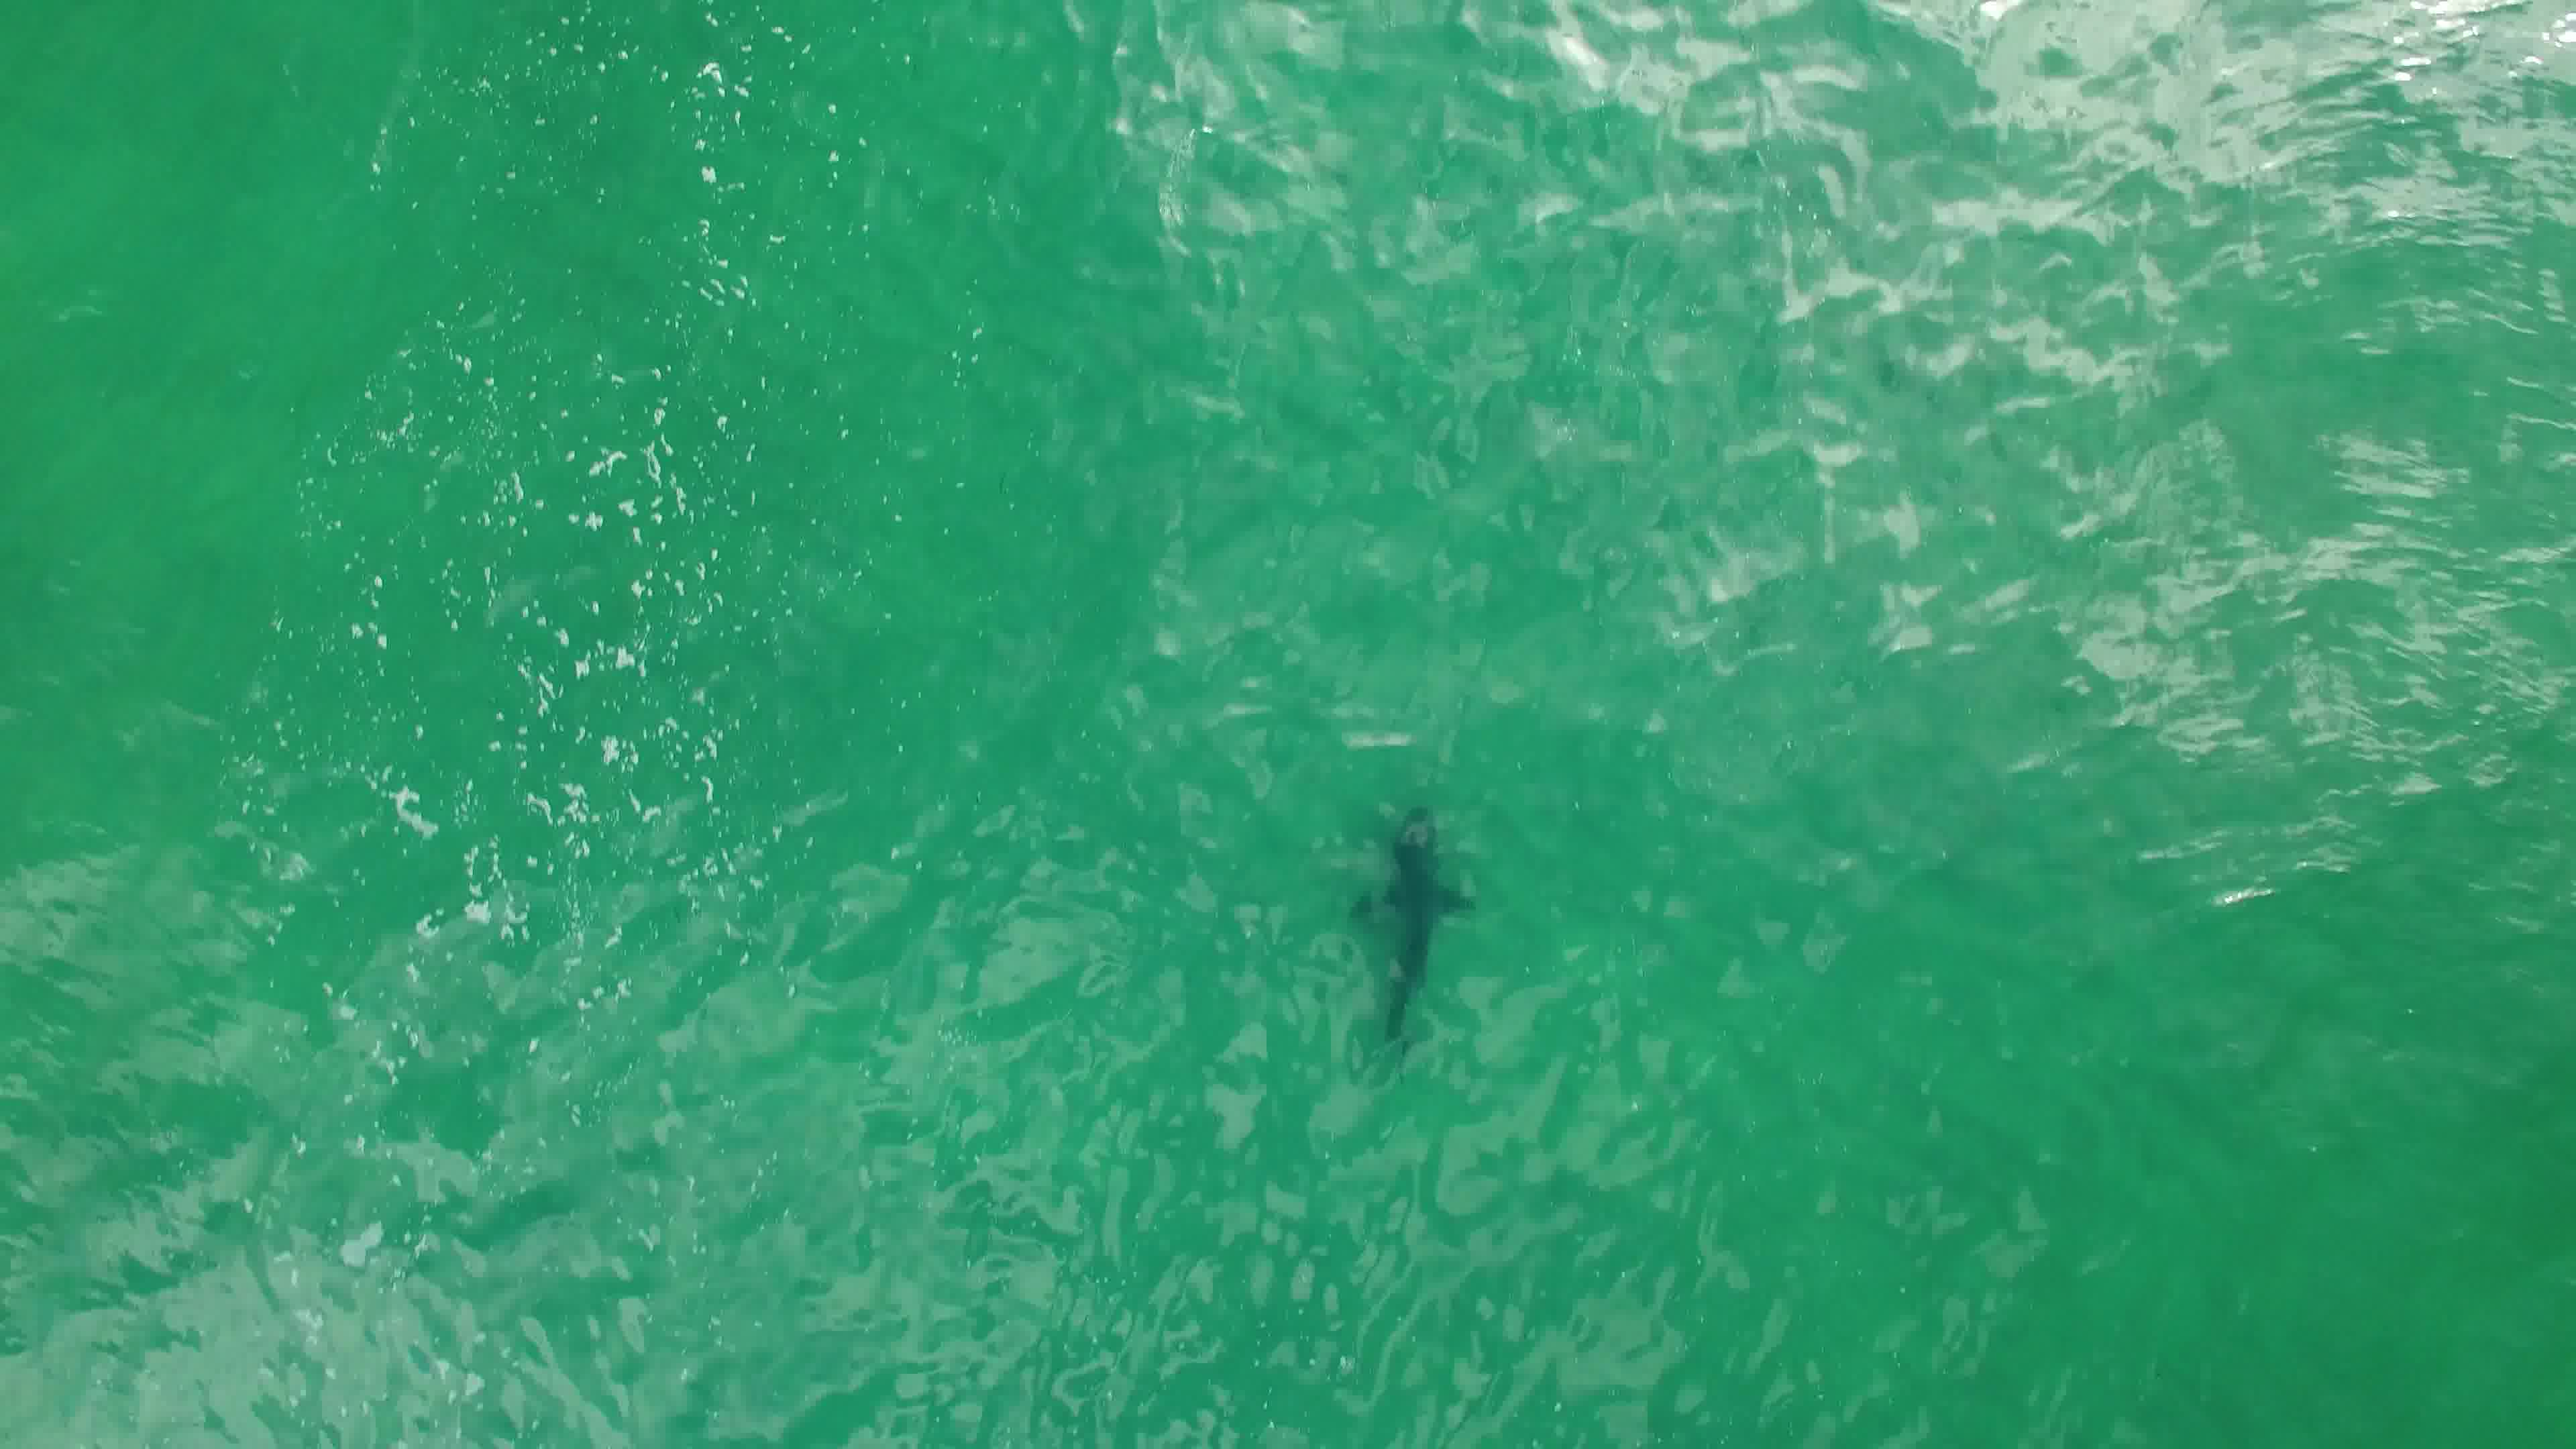shark: (1343, 798, 1484, 1063)
